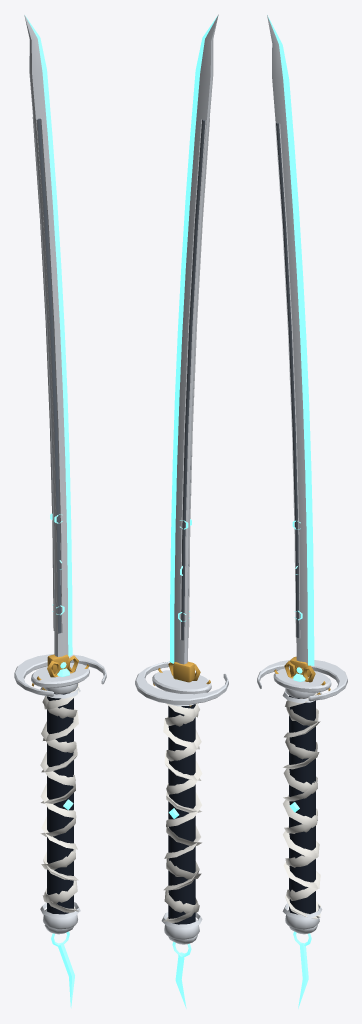
File: moonlight_katana.glb
3 renders of one model, left to right at view 1: azimuth 30°, elevation 25°; view 2: azimuth 150°, elevation 25°; view 3: azimuth 330°, elevation 25°, orthographic. The views are drawn at different scales.
Visible parts, largest first — view 1: moonlight_katana; view 2: moonlight_katana; view 3: moonlight_katana.
Part boxes in pixels (box(x1,y1,x2,y2)): moonlight_katana: box(14, 15, 106, 1008); moonlight_katana: box(135, 14, 228, 1008); moonlight_katana: box(257, 15, 347, 1008).
Bounding box in the file's own units: 0.1083 × 1.31 × 0.0971.
